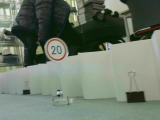speed_20: (42, 36, 69, 62)
